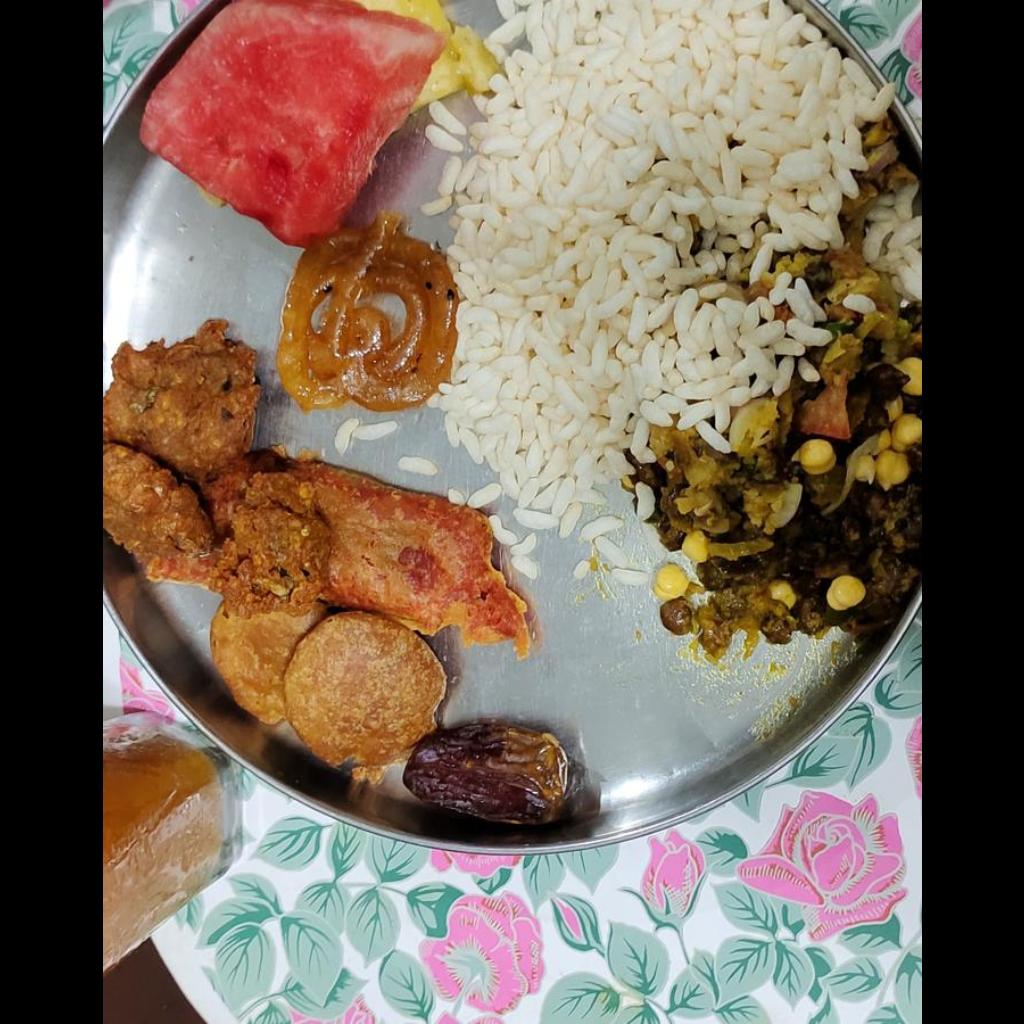beguni: (269, 455, 529, 653)
chola: (664, 301, 920, 646)
chop-alu: (206, 603, 441, 772)
dates: (402, 719, 578, 825)
jilapi: (275, 213, 458, 412)
peyaju: (103, 324, 320, 603)
pineapple: (353, 0, 500, 109)
puffed-rice: (432, 0, 895, 528), (859, 168, 920, 303)
watermelon: (132, 0, 450, 238)
